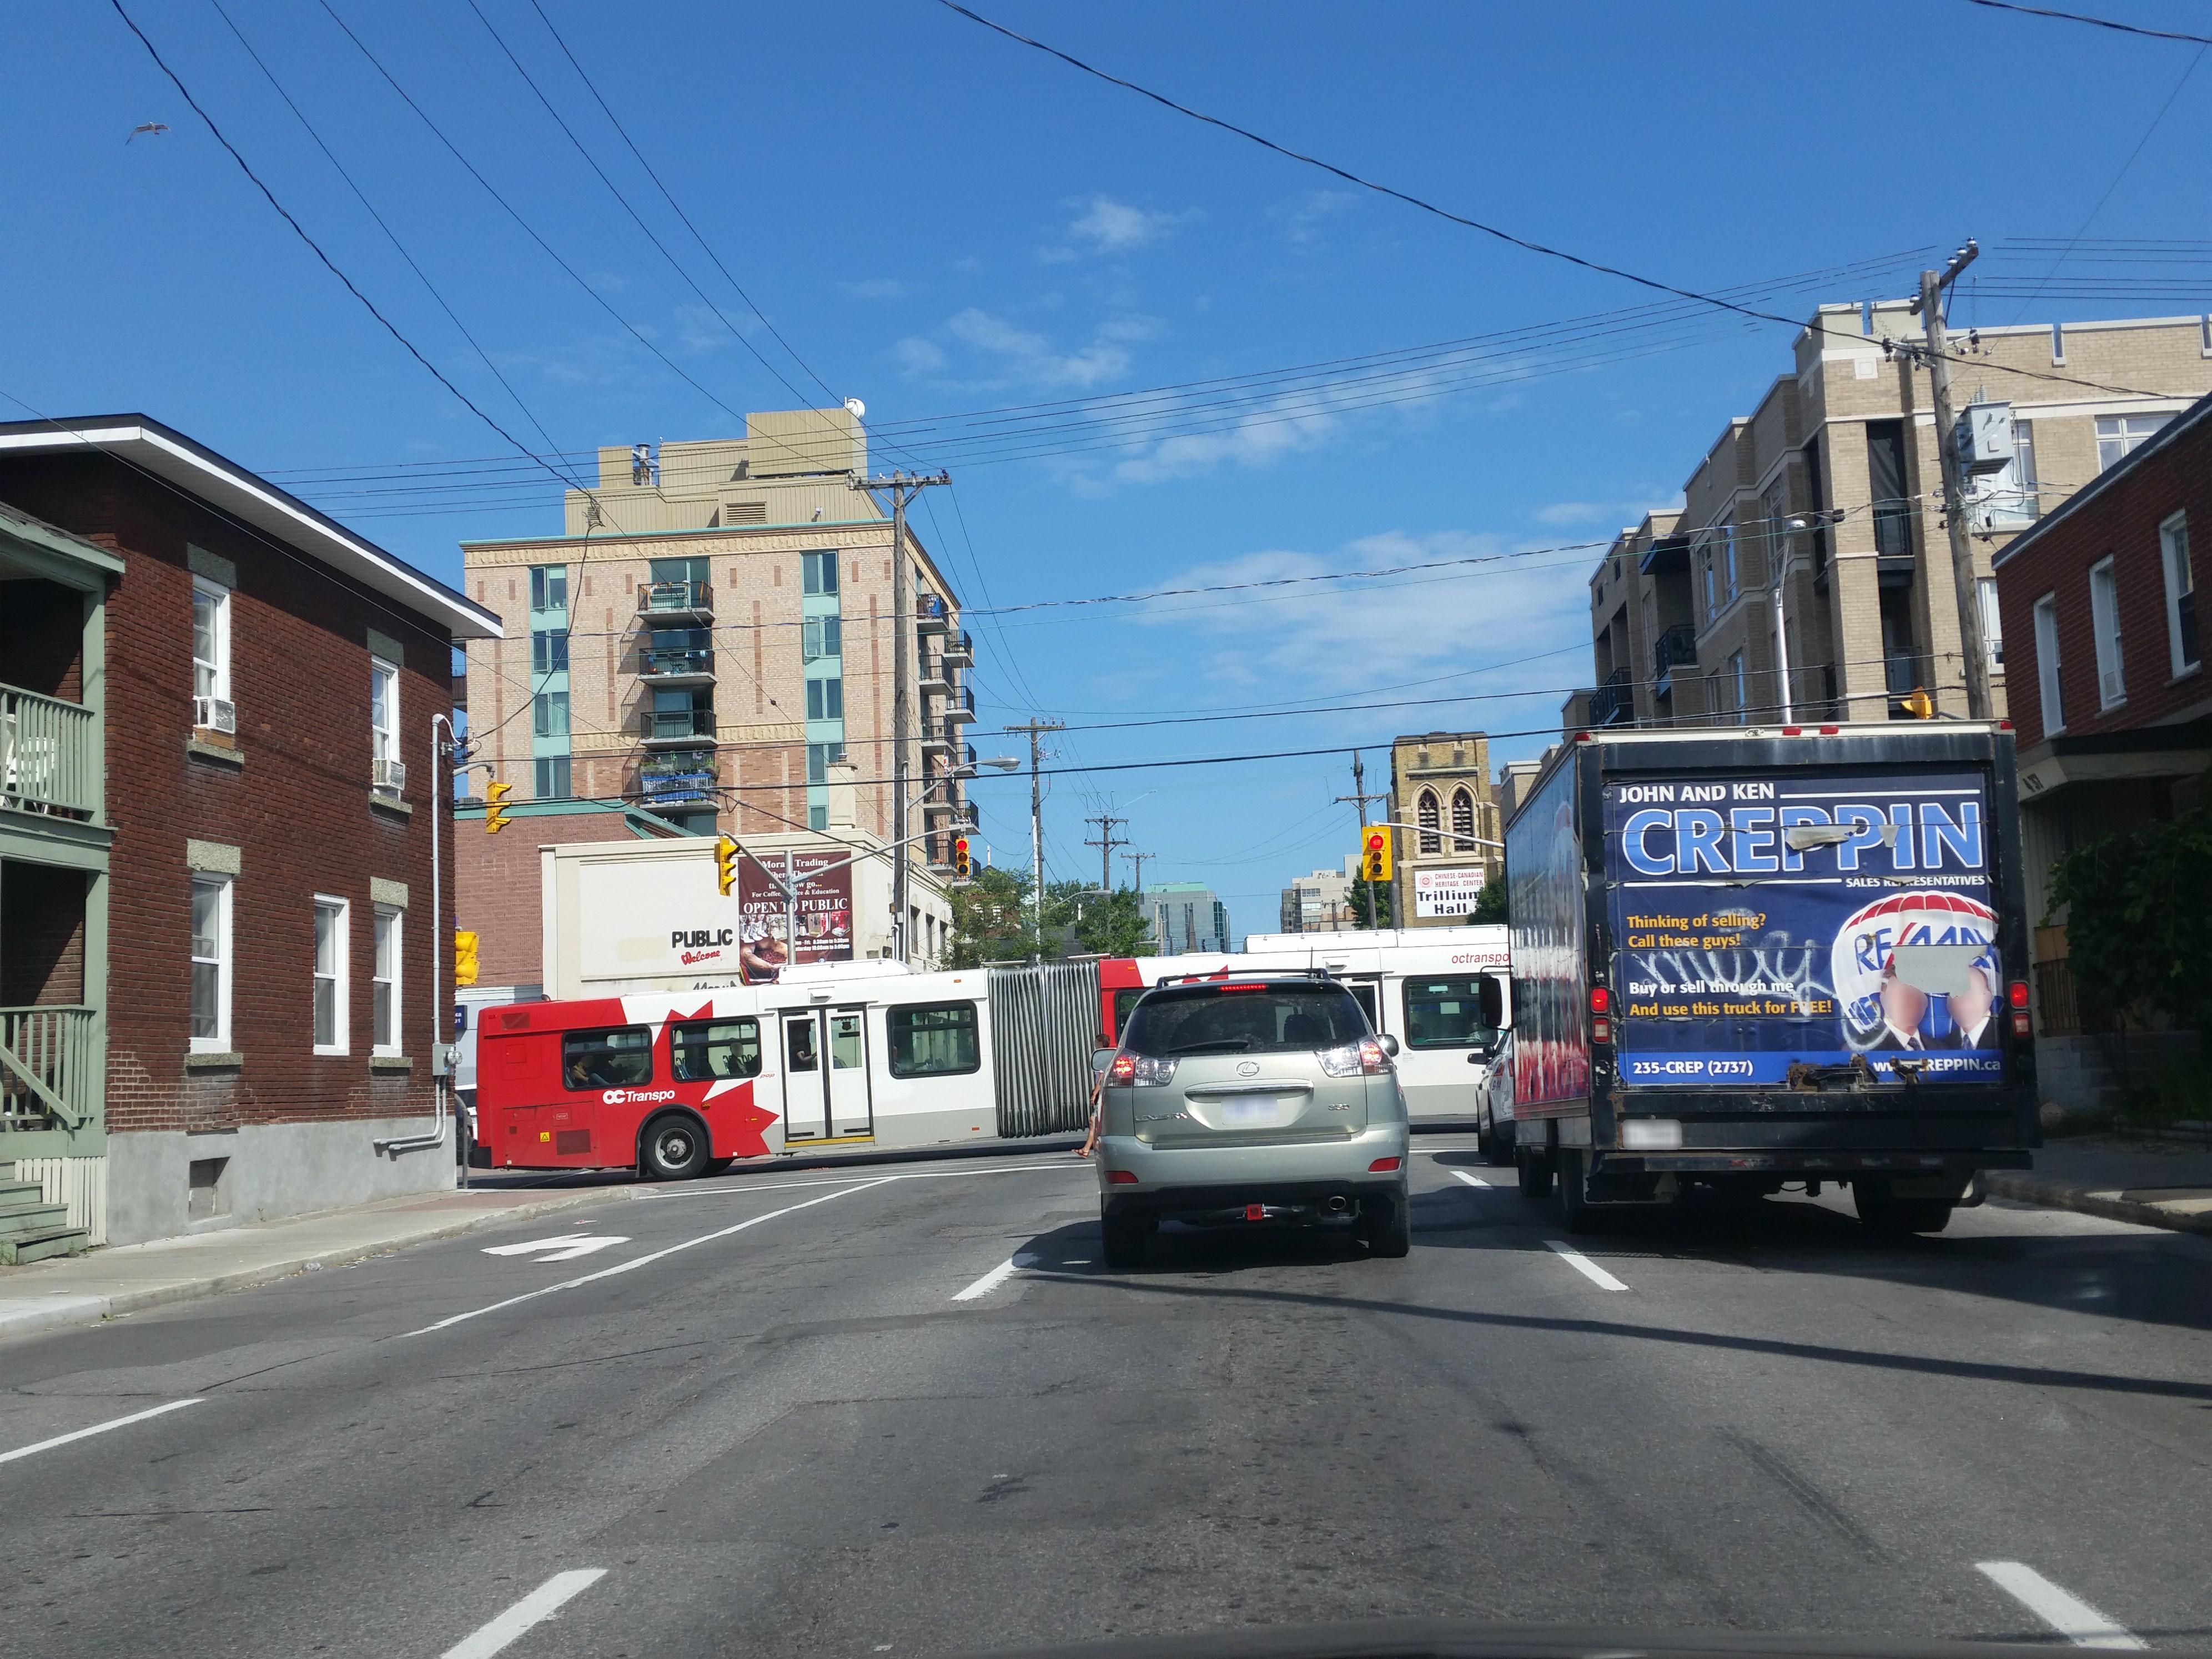vinyl banner: (730, 836, 860, 972), (1411, 847, 1493, 929)
